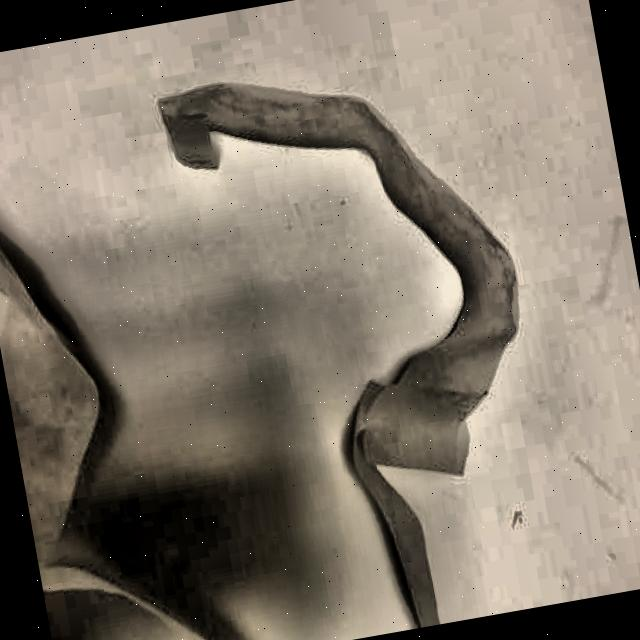trash: (16, 0, 573, 618)
